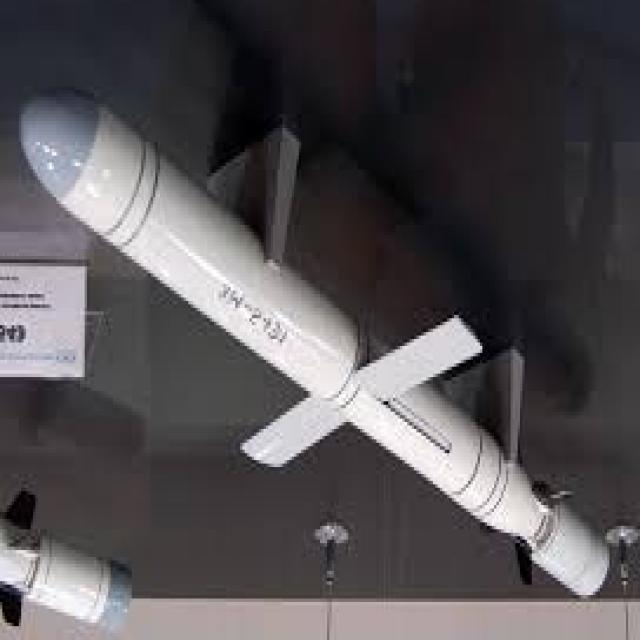missile: (18, 84, 608, 592)
